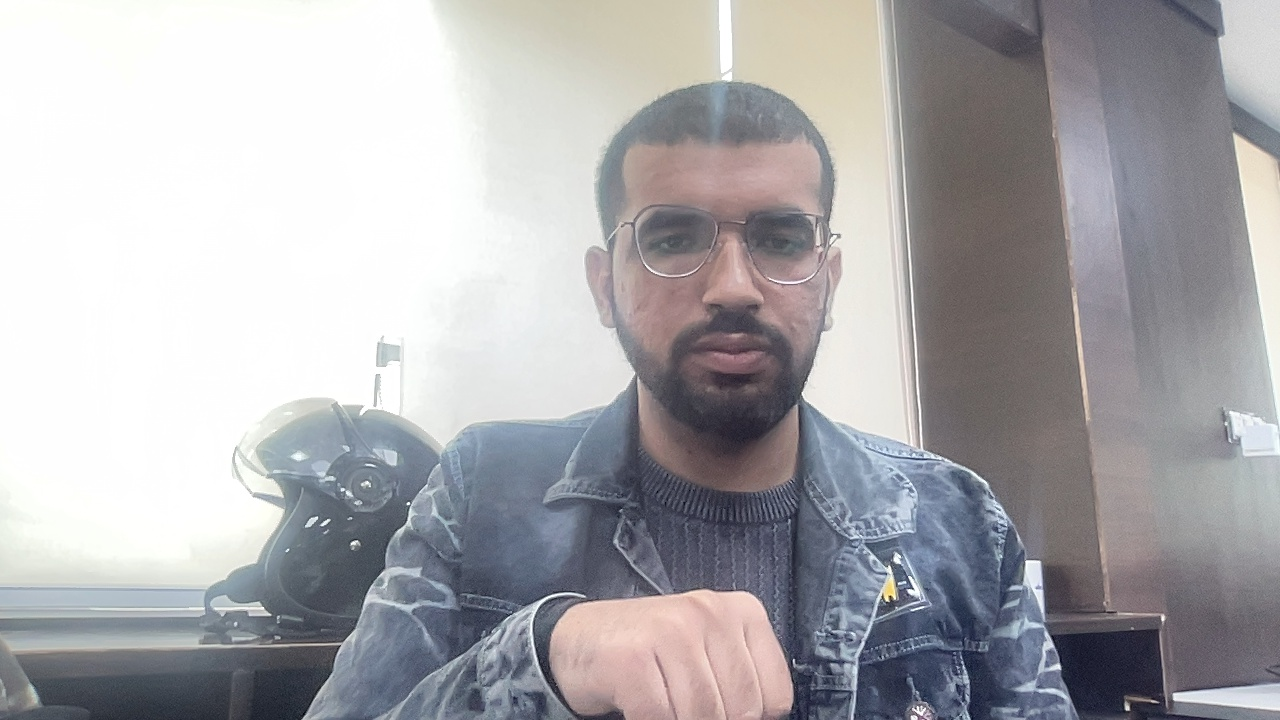Yes: (458, 563, 851, 720)
